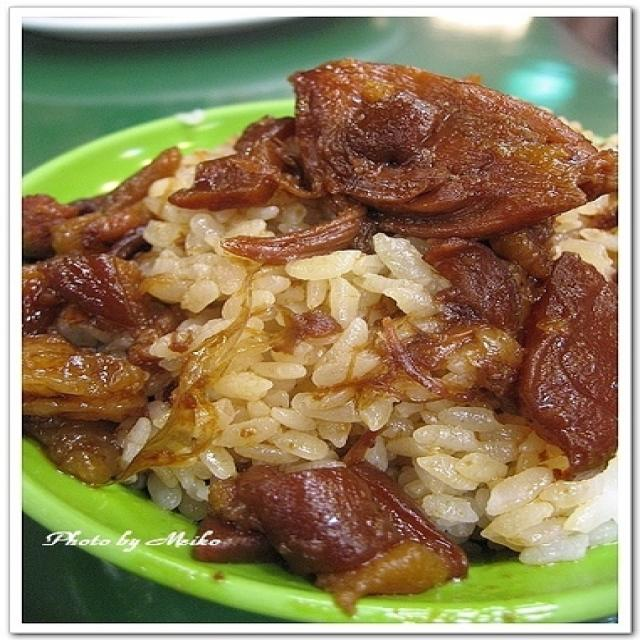猪肉菜式: (61, 74, 602, 581)
